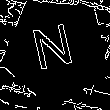N_S: (32, 22, 81, 80)
